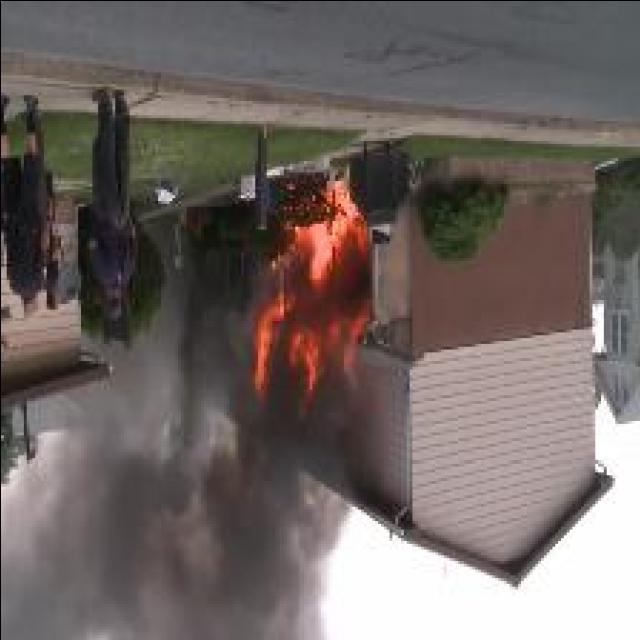Fire: (252, 173, 378, 413)
